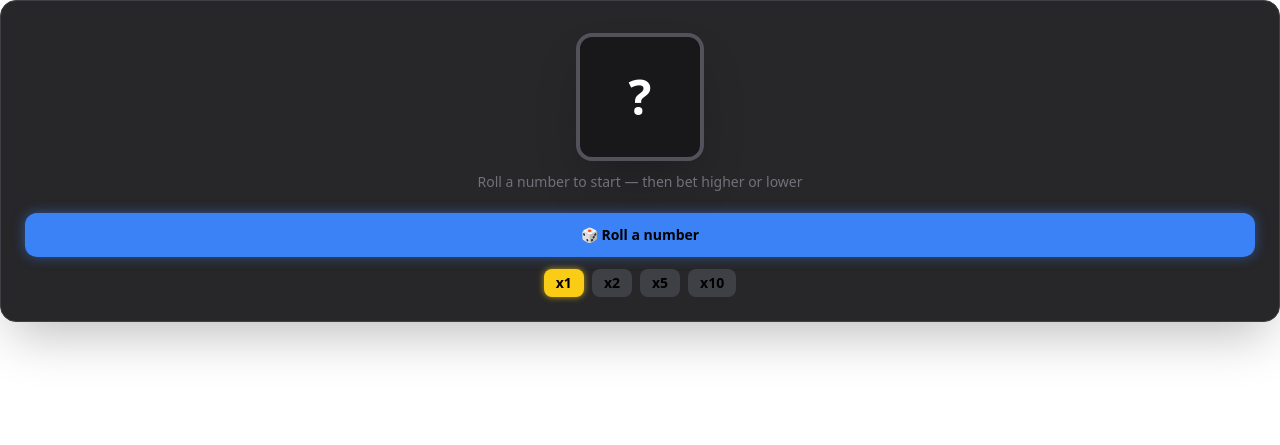
Test: HiLo guessing › guesses a direction and chains the new base number
The width and height of the screenshot is (1280, 445).
Click the button "🎲 Roll a number". click: coordinates (640, 235)
box: [25, 213, 1255, 257]
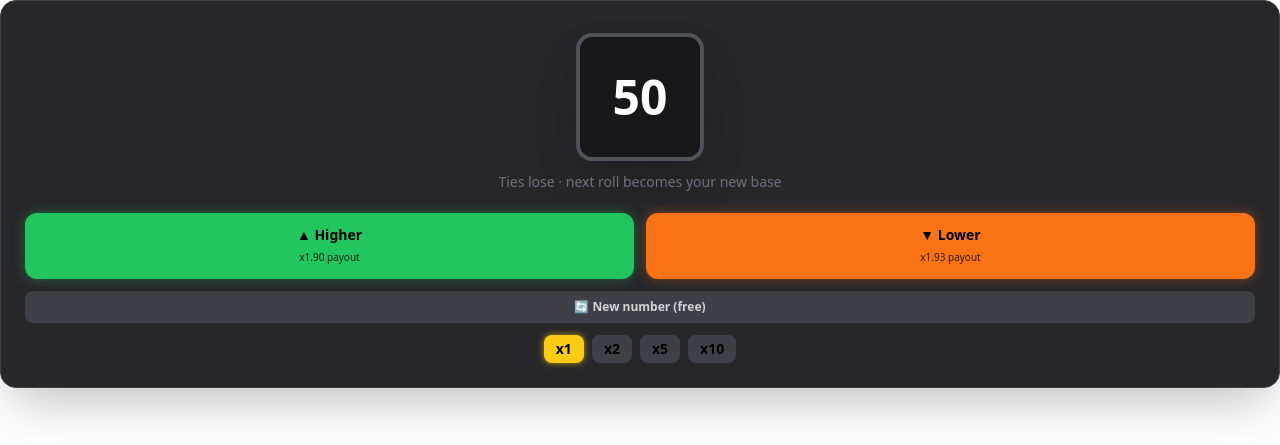
Click the button "▲ Higher x1.90 payout". click: coordinates (330, 246)
box: [25, 213, 634, 279]
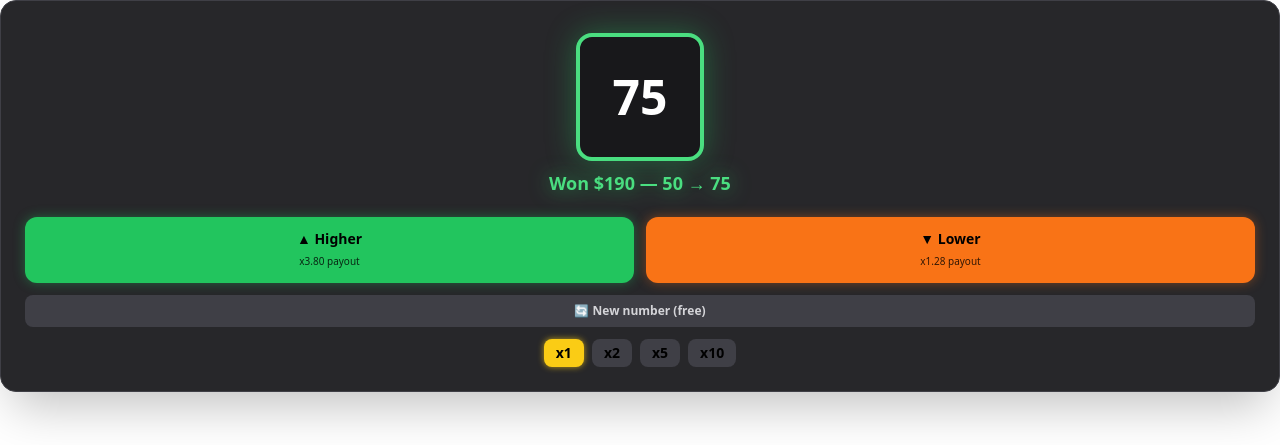
Expected: the text "Won $190 — 50 → 75" is shown, [549, 171, 731, 195]
Click the button "▼ Lower x1.28 payout". click: coordinates (950, 250)
box: [646, 217, 1255, 283]
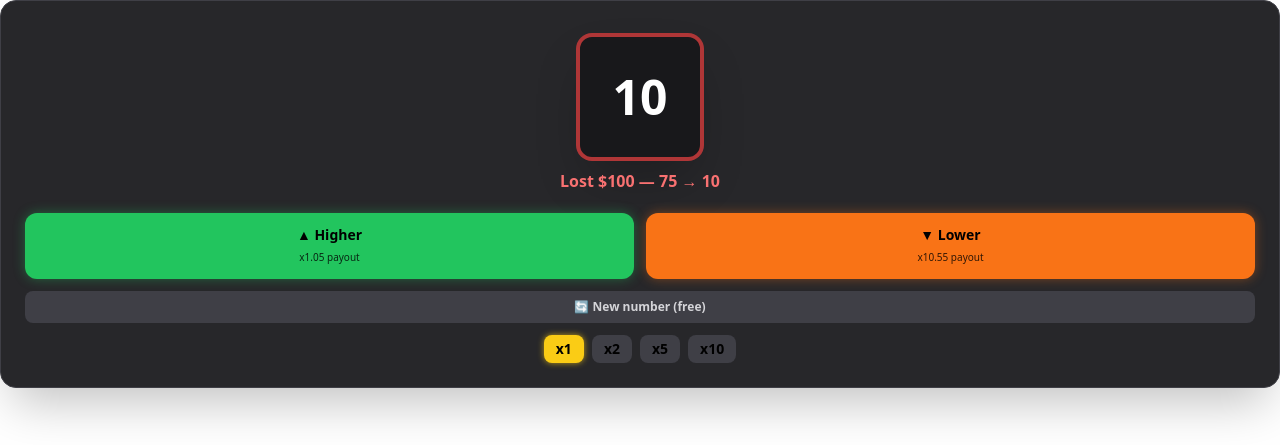
Expected: the text "Lost $100 — 75 → 10" is shown, [560, 170, 720, 192]
